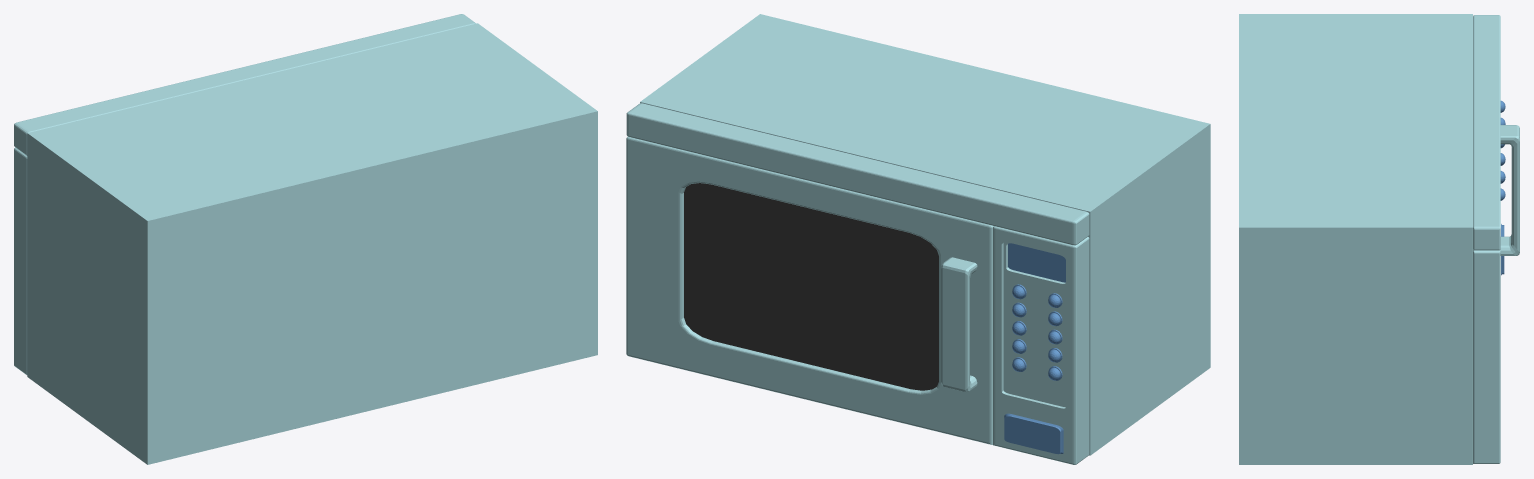
File: MicrovaveColor.fbx
3 views of the same model, side by side, from view 1: azimuth 30°, elevation 25°; view 2: azimuth 150°, elevation 25°; view 3: azimuth 270°, elevation 25° (orthographic). The views are drawn at different scales.
Visible parts, largest first — view 1: Cube.001; view 2: Cube.001, Cube.002; view 3: Cube.001, Cube.002.
Boxes of the visible parts, box(x1,y1,x2,y2) form: Cube.001: box(14, 14, 597, 464); Cube.001: box(626, 14, 1210, 464); Cube.002: box(626, 136, 993, 444); Cube.001: box(1239, 14, 1505, 464); Cube.002: box(1473, 125, 1519, 463).
Bounding box in the file's own units: 60.17 × 31.14 × 33.41.
